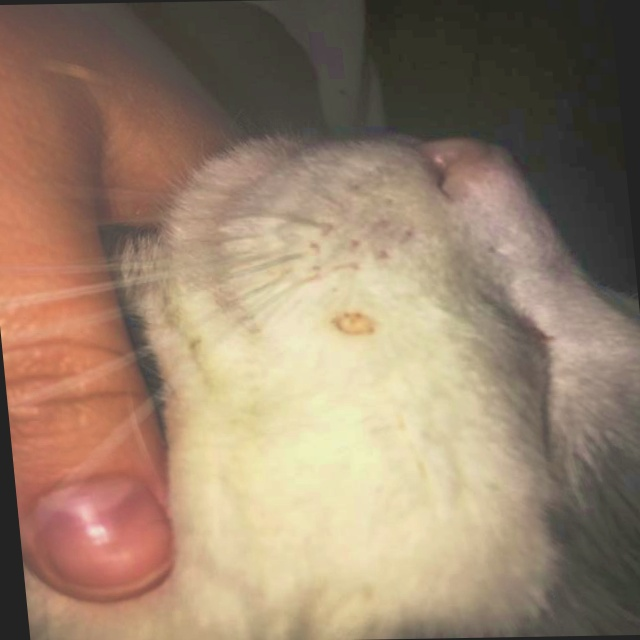lump_and_bump: (335, 314, 376, 337)
